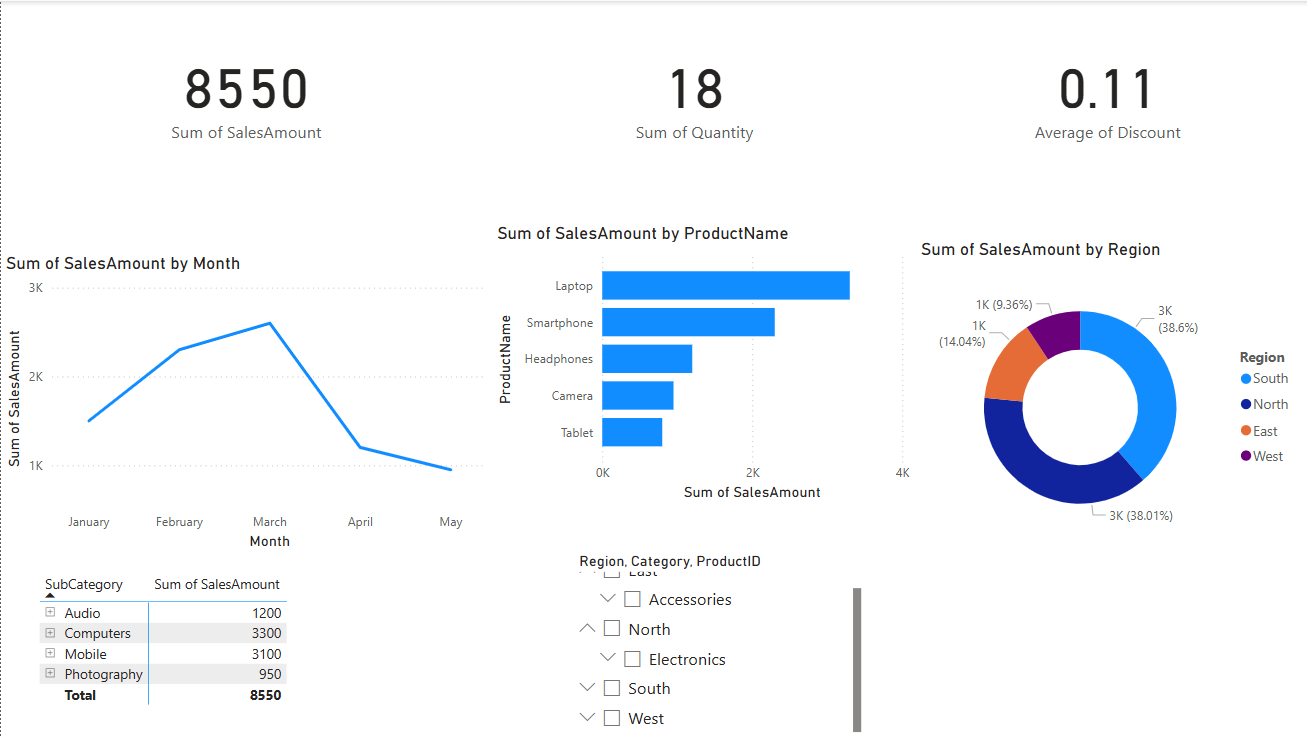

What the dashboard file says about the page in this screenshot:
{"tool":"powerbi","page":{"name":"Page 1","canvas":[1280,720],"ordinal":0},"visuals":[{"type":"lineChart","fields":{"Category":["sales.OrderDate.Variation.Date Hierarchy.Month"],"Y":["Sum(sales.SalesAmount)"]},"box":[0,245.8,480.6,295.9],"z":0},{"type":"clusteredBarChart","fields":{"Category":["products.ProductName"],"Y":["Sum(sales.SalesAmount)"]},"box":[480.6,216.4,413.3,277.6],"z":1000},{"type":"donutChart","fields":{"Category":["sales.Region"],"Y":["Sum(sales.SalesAmount)"]},"box":[894.7,231.9,385.6,310.1],"z":2000},{"type":"pivotTable","fields":{"Rows":["products.SubCategory","products.Category"],"Values":["Sum(sales.SalesAmount)"]},"box":[32.9,554.4,269,156.4],"z":3000},{"type":"card","fields":{"Values":["Sum(sales.Quantity)"]},"box":[480.6,0,396.2,179.8],"z":4000},{"type":"card","fields":{"Values":["Avg(sales.Discount)"]},"box":[885.3,0,395,179.8],"z":5000},{"type":"card","fields":{"Values":["Sum(sales.SalesAmount)"]},"box":[0,0,480.6,179.8],"z":6000},{"type":"slicer","fields":{"Values":["sales.Region","products.Category","sales.ProductID"]},"box":[490.4,524.6,293.5,185.9],"z":6001}]}

Visuals, with their boxes in screenshot pixels (x1, y1, x2, y2), scaled from the page's 1280x720 canvas onto the 1307x736 screenshot:
lineChart - sales.OrderDate.Variation.Date Hierarchy.Month x Sum(sales.SalesAmount): 0/251/491/554
clusteredBarChart - products.ProductName x Sum(sales.SalesAmount): 491/221/913/505
donutChart - sales.Region x Sum(sales.SalesAmount): 914/237/1306/554
pivotTable - products.SubCategory x products.Category: 34/567/308/727
card - Sum(sales.Quantity): 491/0/895/184
card - Avg(sales.Discount): 904/0/1306/184
card - Sum(sales.SalesAmount): 0/0/491/184
slicer - sales.Region x products.Category: 501/536/800/726
